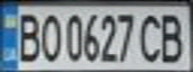0: (63, 10, 84, 63)
2: (96, 9, 121, 63)
6: (81, 10, 103, 63)
7: (115, 10, 139, 63)
B: (157, 9, 190, 64), (12, 9, 42, 63)
C: (136, 10, 166, 63)
O: (36, 10, 63, 63)
